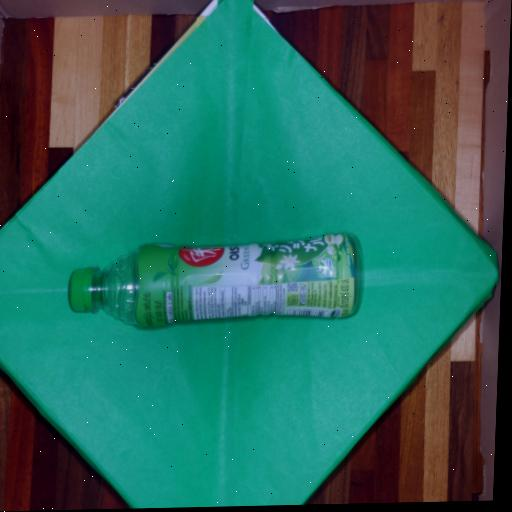bottle: (63, 234, 364, 328)
